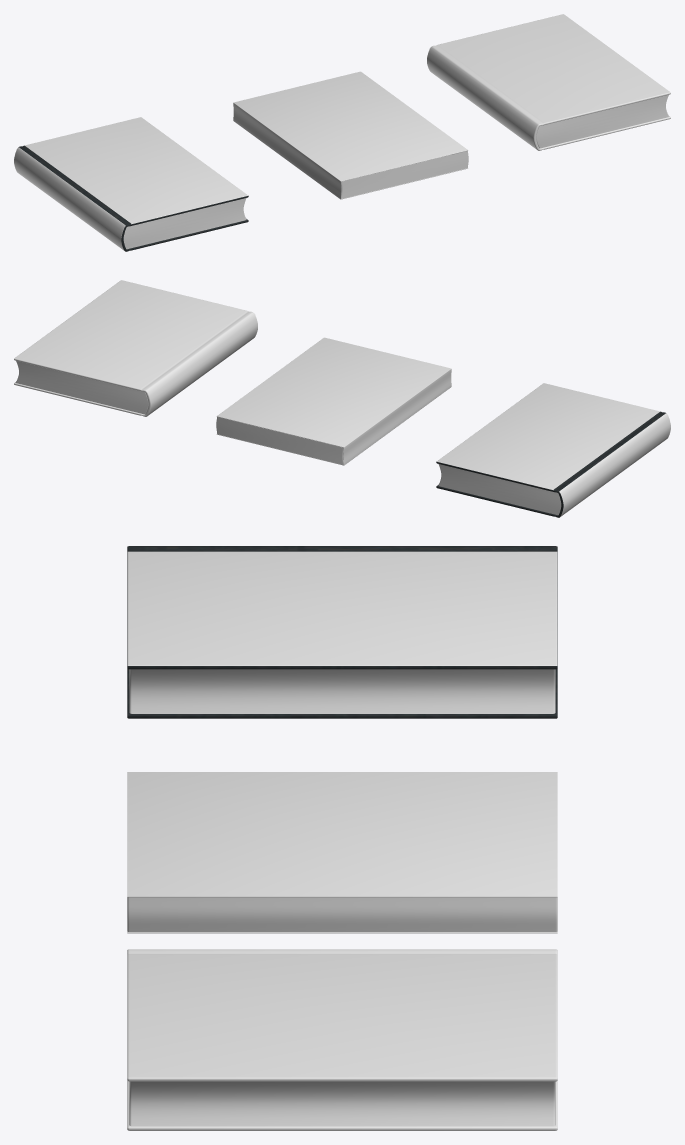
File: Books.fbx
3 renders of one model, top to bottom at view 1: azimuth 30°, elevation 25°; view 2: azimuth 150°, elevation 25°; view 3: azimuth 270°, elevation 25°, orthographic. The views are drawn at different scales.
Parts seen in each view (by area): view 1: Book_cover.002, Book_cover, Book_cover.001, Pages.002, Pages, Pages.001; view 2: Book_cover.002, Book_cover, Book_cover.001, Pages.002, Pages, Pages.001; view 3: Book_cover.002, Book_cover, Book_cover.001, Pages.002, Pages, Pages.001.
Part boxes in pixels (x1,y1,x2,y2): Book_cover.002: [427, 14, 670, 150]; Book_cover: [14, 117, 248, 251]; Book_cover.001: [233, 71, 468, 199]; Pages.002: [536, 95, 669, 148]; Pages: [123, 198, 246, 249]; Pages.001: [341, 150, 468, 198]; Book_cover.002: [14, 280, 257, 416]; Book_cover: [436, 383, 670, 517]; Book_cover.001: [216, 337, 451, 465]; Pages.002: [15, 361, 148, 414]; Pages: [438, 464, 561, 515]; Pages.001: [216, 416, 343, 464]; Book_cover.002: [127, 949, 557, 1130]; Book_cover: [127, 546, 557, 718]; Book_cover.001: [127, 772, 557, 933]; Pages.002: [129, 1081, 555, 1126]; Pages: [129, 669, 555, 713]; Pages.001: [127, 897, 557, 931].
Size of the model in its own units: 56.06 by 2.6 by 19.
